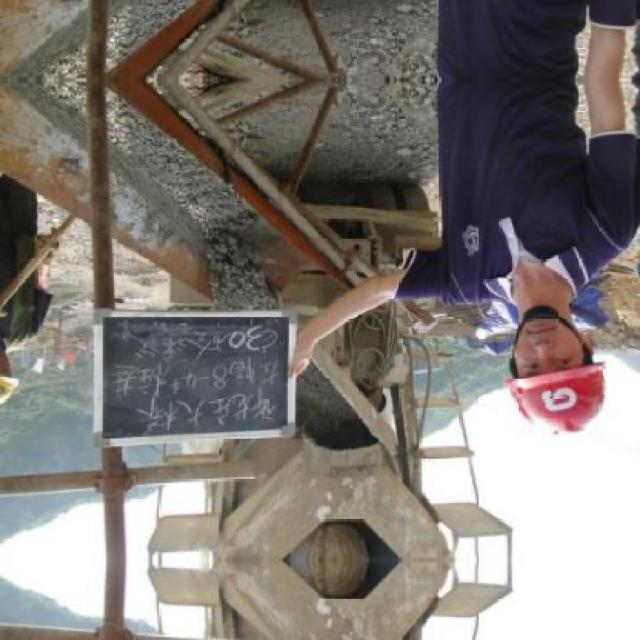con casco: (423, 207, 603, 443)
